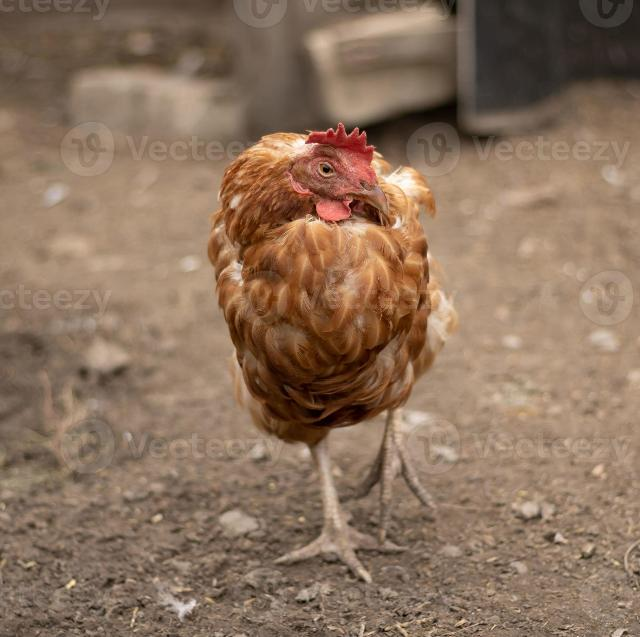Chicken: (210, 119, 460, 578)
